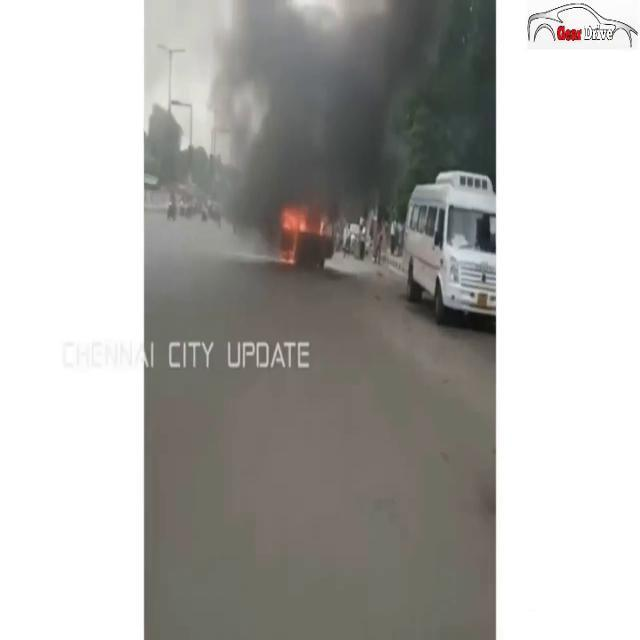Fire: (276, 201, 318, 266)
Smoke: (199, 0, 492, 233)
